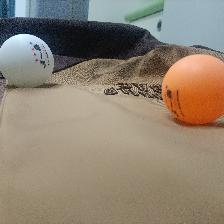WhiteBall: (1, 33, 54, 87)
YellowBall: (161, 53, 224, 124)
